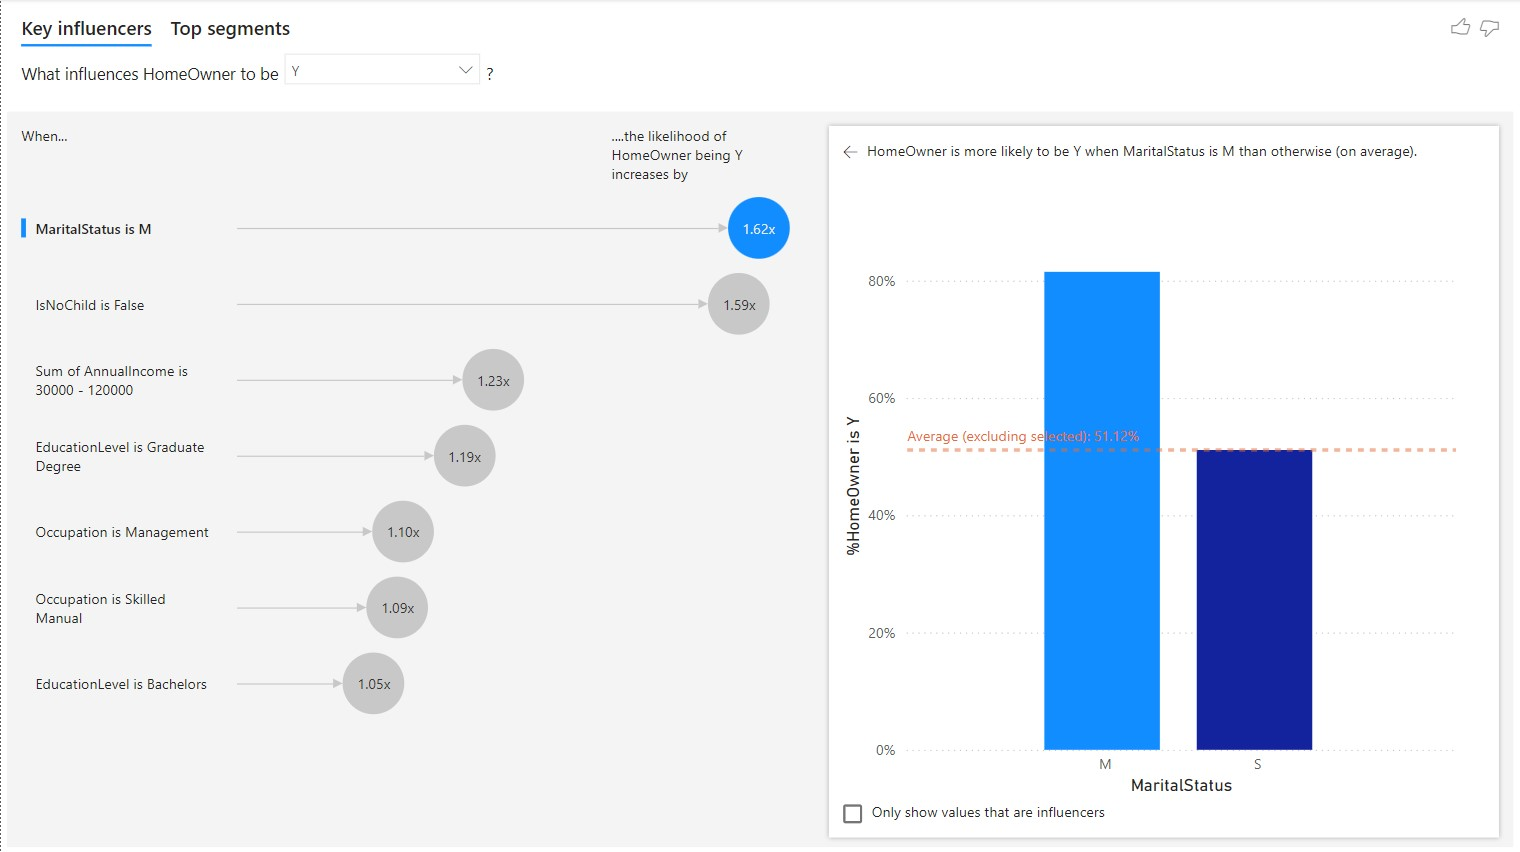

Layout of this report page (visuals, bound fields, positions):
{"tool":"powerbi","page":{"name":"Key Influencer","canvas":[1280,720],"ordinal":7},"visuals":[{"type":"keyDriversVisual","fields":{"Target":["Customer Lookup.HomeOwner"],"ExplainBy":["Sum(Customer Lookup.AnnualIncome)","Customer Lookup.MaritalStatus","Customer Lookup.IsNoChild","Customer Lookup.EducationLevel","Customer Lookup.Occupation"]},"box":[0,0,1279.7,720],"z":0}]}

Visuals, with their boxes in screenshot pixels (x1, y1, x2, y2), scaled from the page's 1280x720 canvas onto the 1520x852 screenshot:
keyDriversVisual - Customer Lookup.HomeOwner x Sum(Customer Lookup.AnnualIncome): left=0, top=0, right=1519, bottom=851
